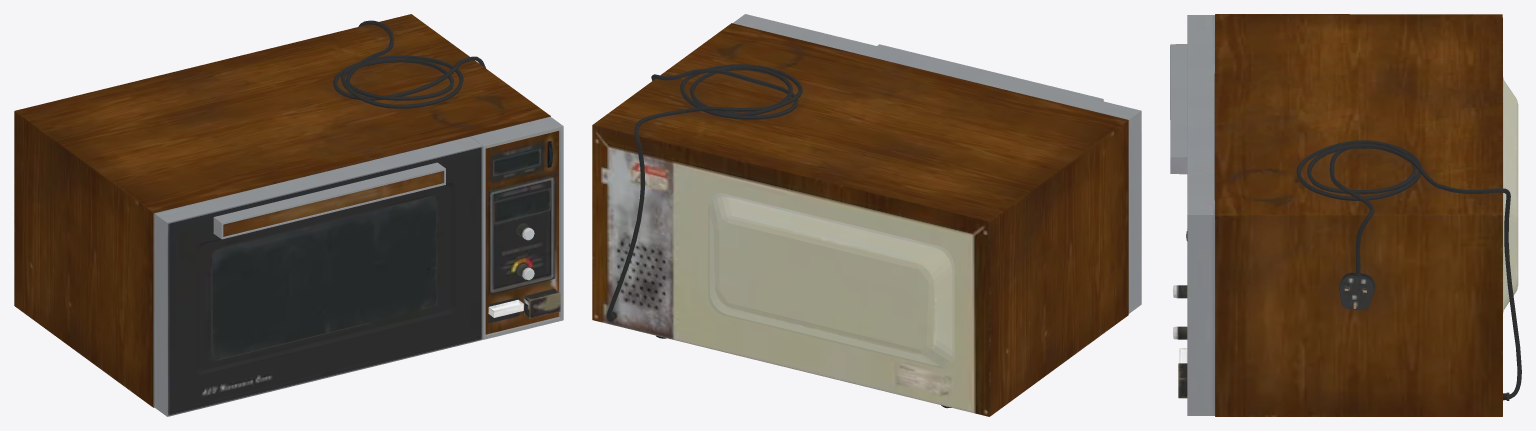
3 views of the same model, side by side, from view 1: azimuth 30°, elevation 25°; view 2: azimuth 150°, elevation 25°; view 3: azimuth 270°, elevation 25° (orthographic). The views are drawn at different scales.
Visible parts, largest first — view 1: vintage_microwave; view 2: vintage_microwave; view 3: vintage_microwave.
Part boxes in pixels (x1,y1,x2,y2): vintage_microwave: [14, 14, 563, 416]; vintage_microwave: [592, 14, 1141, 416]; vintage_microwave: [1170, 14, 1521, 416].
Size of the model in its own units: 1.07 by 0.5257 by 0.7455.
2 materials, 2 textured.
